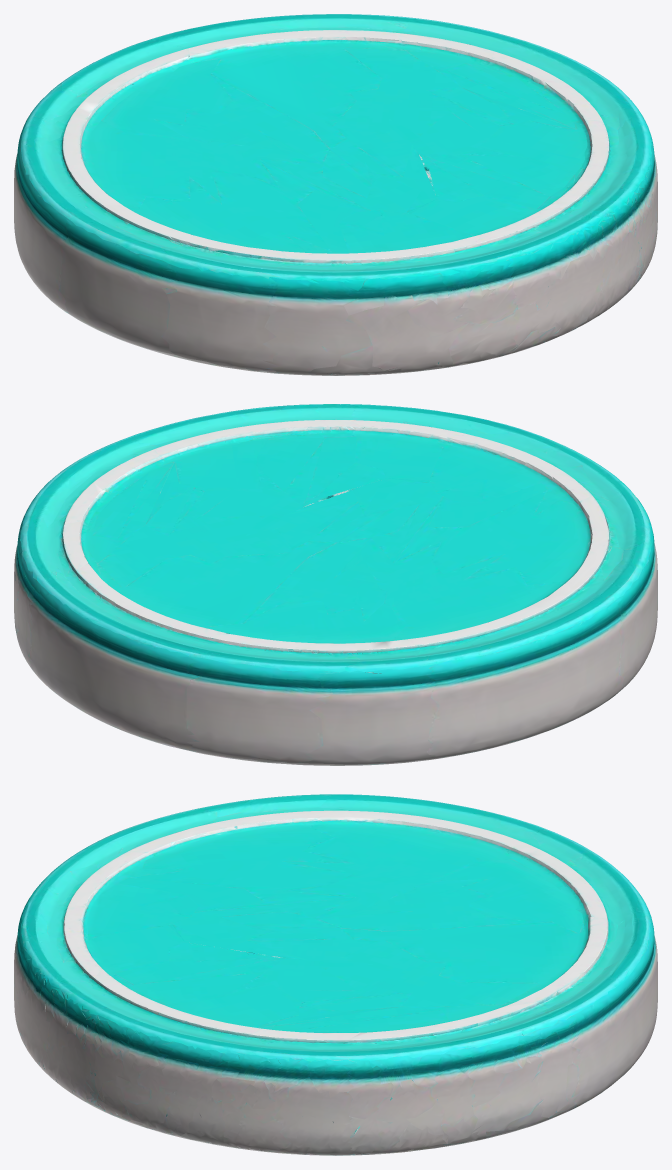
Rendered from plat.glb.
3 views of the same model, one above another, from view 1: azimuth 30°, elevation 25°; view 2: azimuth 150°, elevation 25°; view 3: azimuth 270°, elevation 25° (orthographic).
Bounding box in the file's own units: 1.9 × 0.3232 × 1.9.
1 material, 1 textured.
